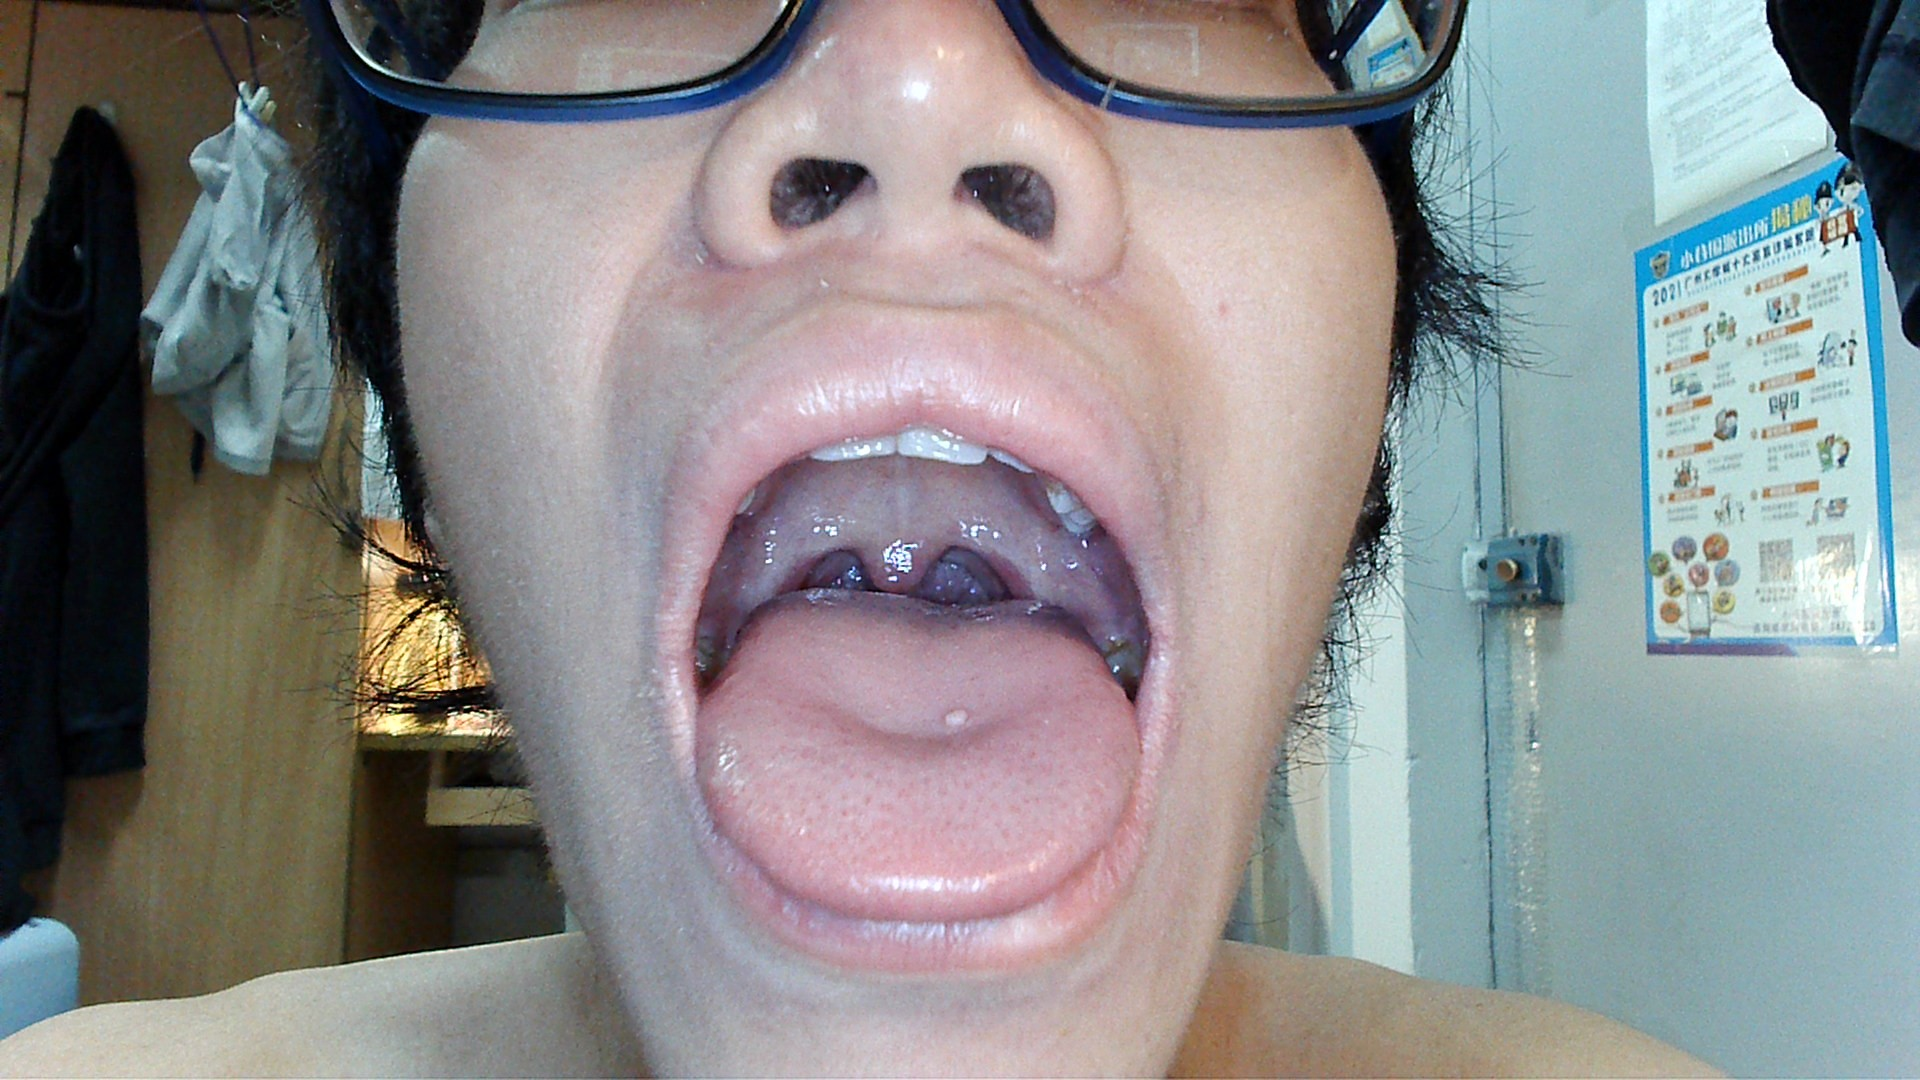throat: (975, 496, 1038, 596), (774, 504, 833, 596)
